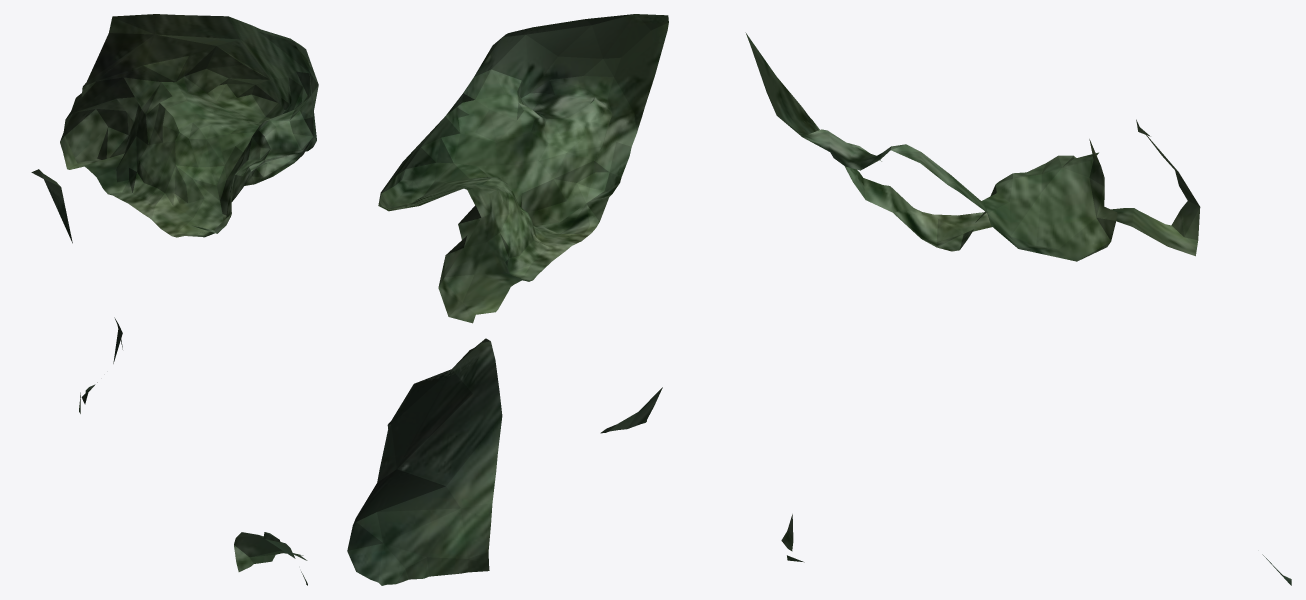
The picture shows the model from 3 angles, left to right: view 1: azimuth 30°, elevation 25°; view 2: azimuth 150°, elevation 25°; view 3: azimuth 270°, elevation 25°; orthographic projection. The views are drawn at different scales.
Size of the model in its own units: 2.24 by 5.9 by 5.9.
2 materials, 2 textured.
